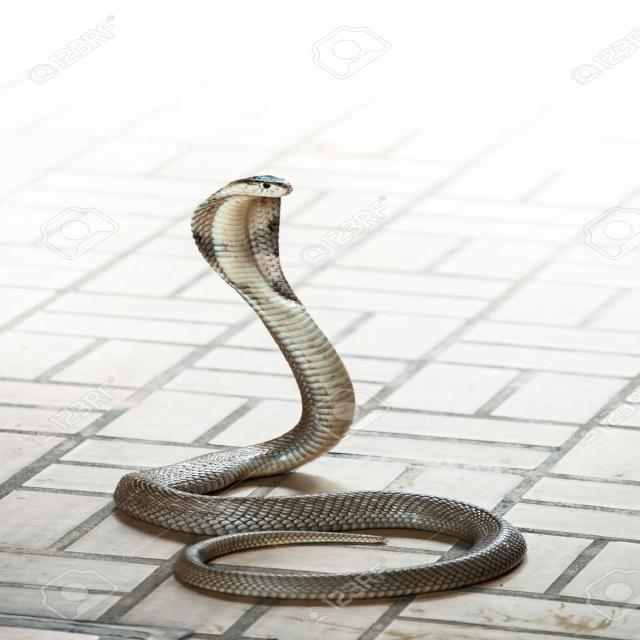Snake: (111, 174, 528, 600)
